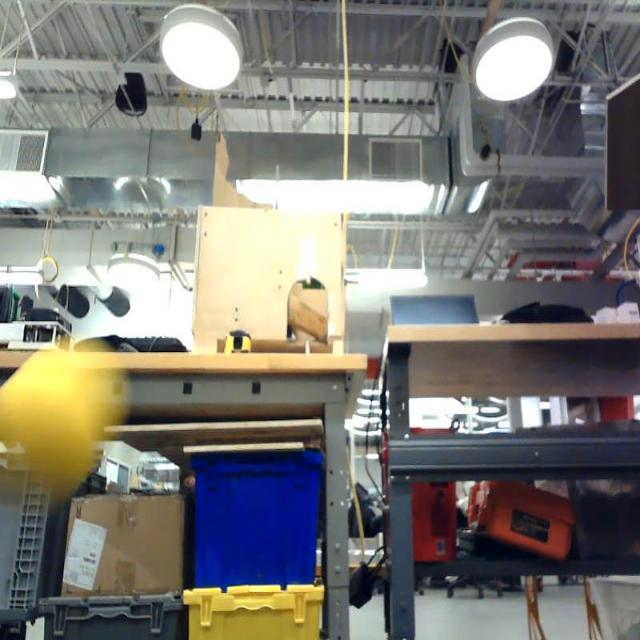Fuel: (0, 354, 102, 502)
